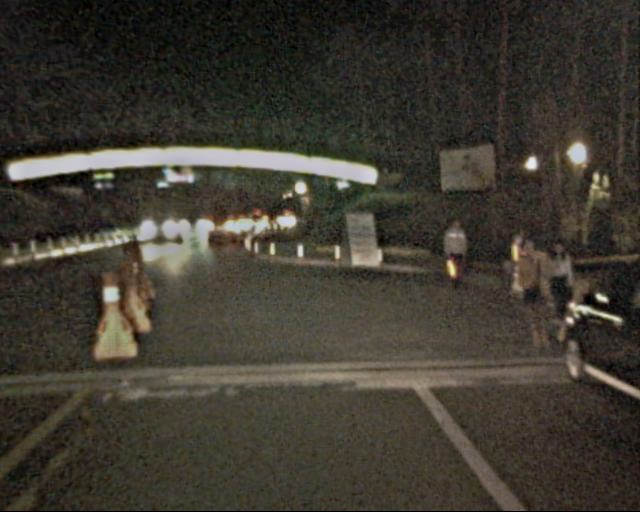person: (508, 240, 553, 338), (540, 242, 579, 336), (440, 214, 476, 293)
